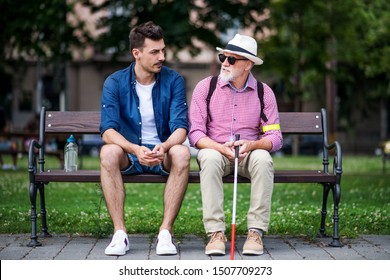person: (91, 20, 194, 264), (188, 32, 286, 268)
